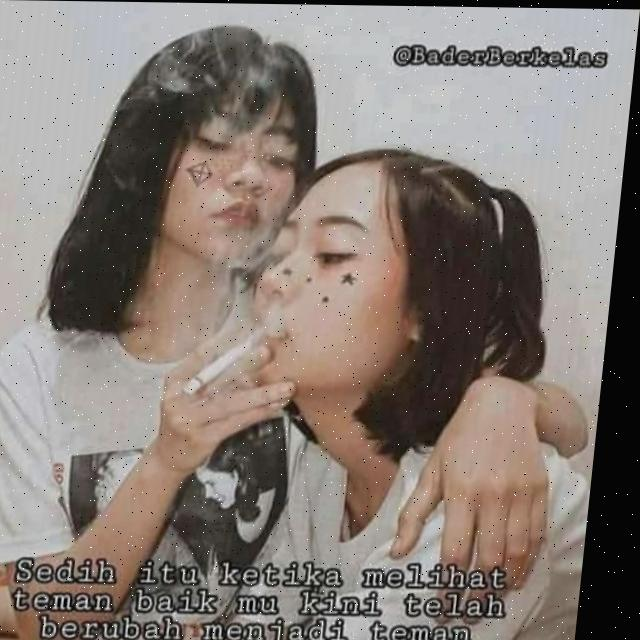cigarette: (188, 325, 274, 397)
